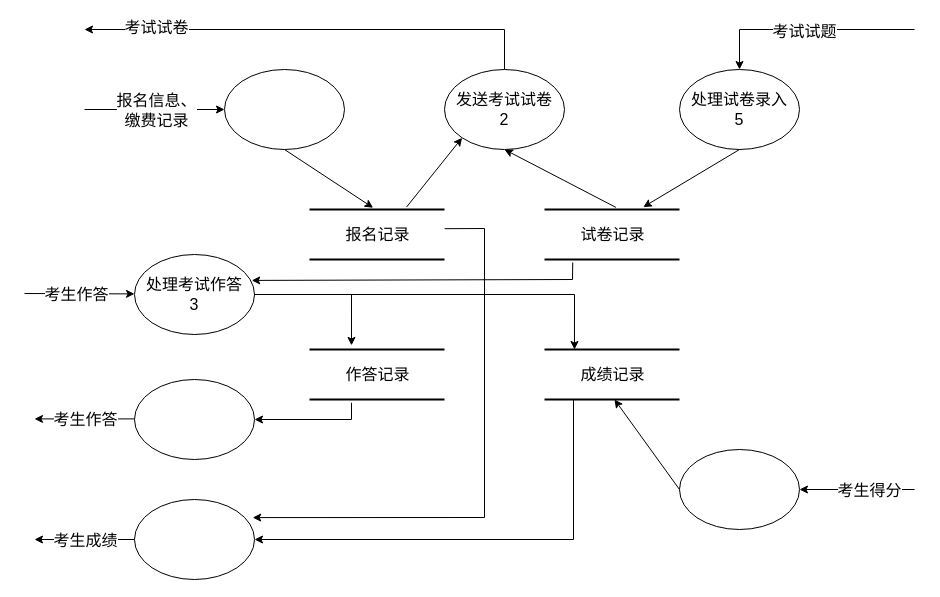
This 940x597 diagram has some shape labels left out. Each missing label, with the centre of its shape:
"发送考生作答 7" belongs at (194,419).
"处理成绩查询 4" belongs at (194,539).
"处理报名情况 1" belongs at (284,109).
"处理教师阅卷 6" belongs at (739,489).
